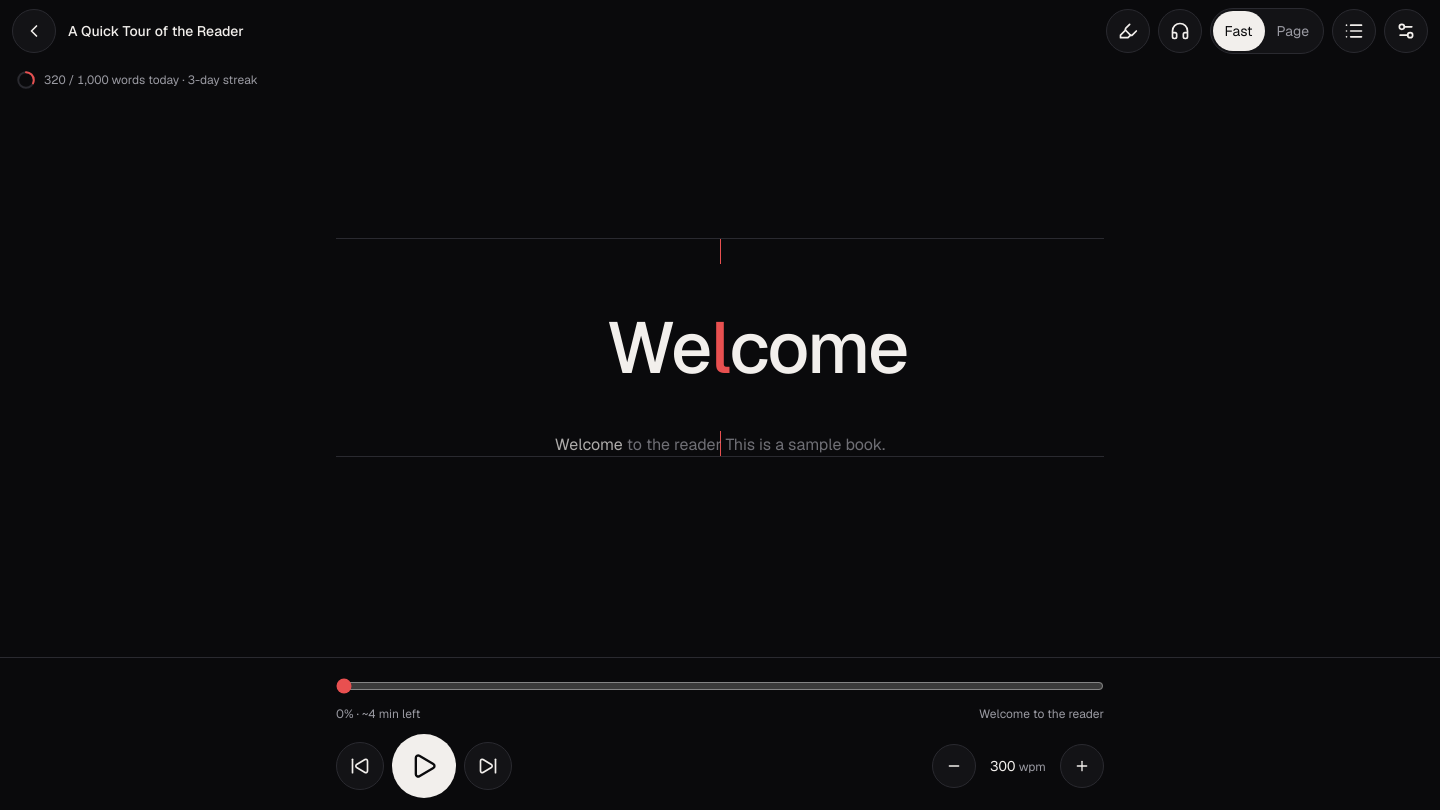
Test: ReaderApp highlights + sessions › shows today's progress and opens the stats
This screenshot has width=1440, height=810.
Click the button with test id "stats-bar" at (137, 80), box [16, 62, 258, 98]
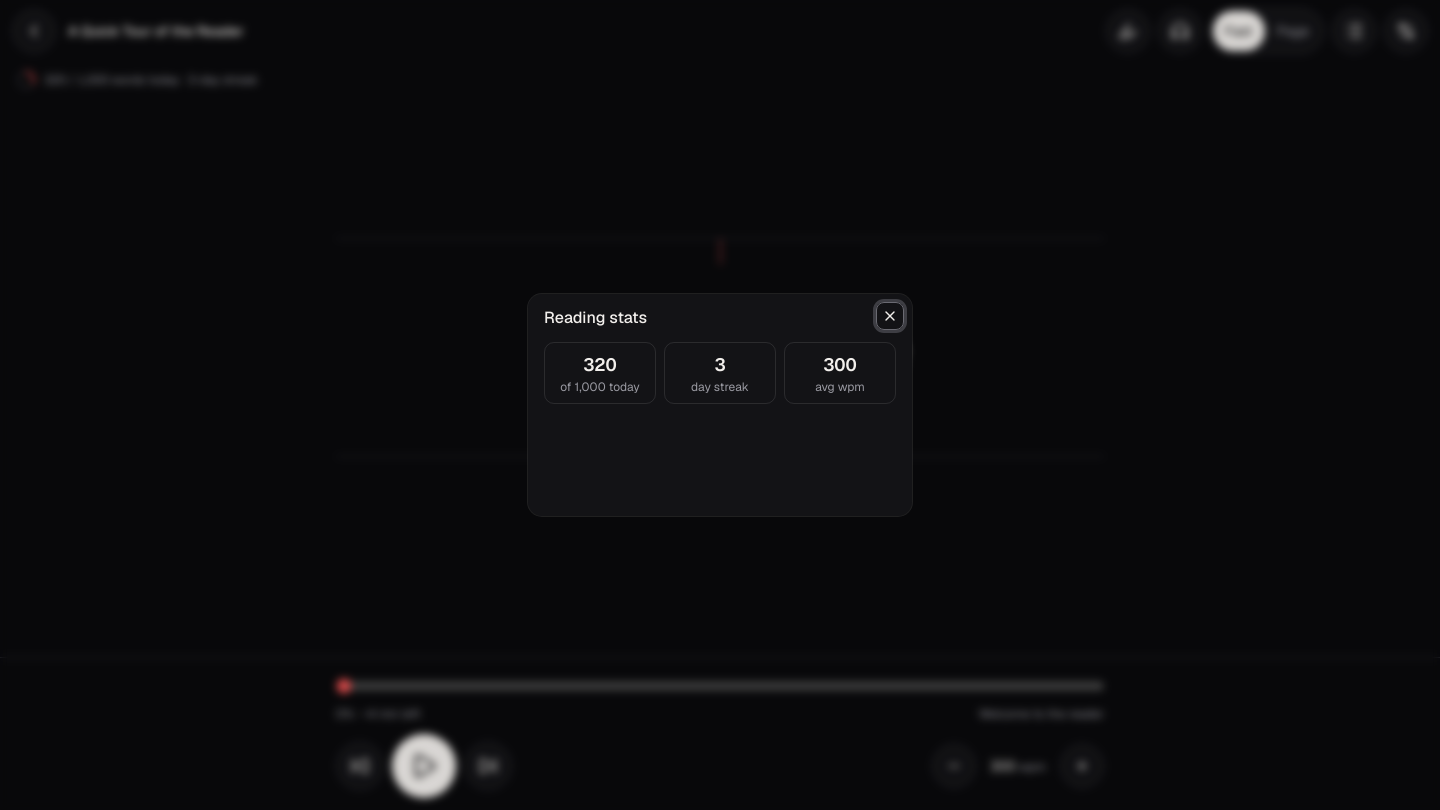
Expected: the element with test id "reading-stats" is shown, [544, 342, 896, 404]
